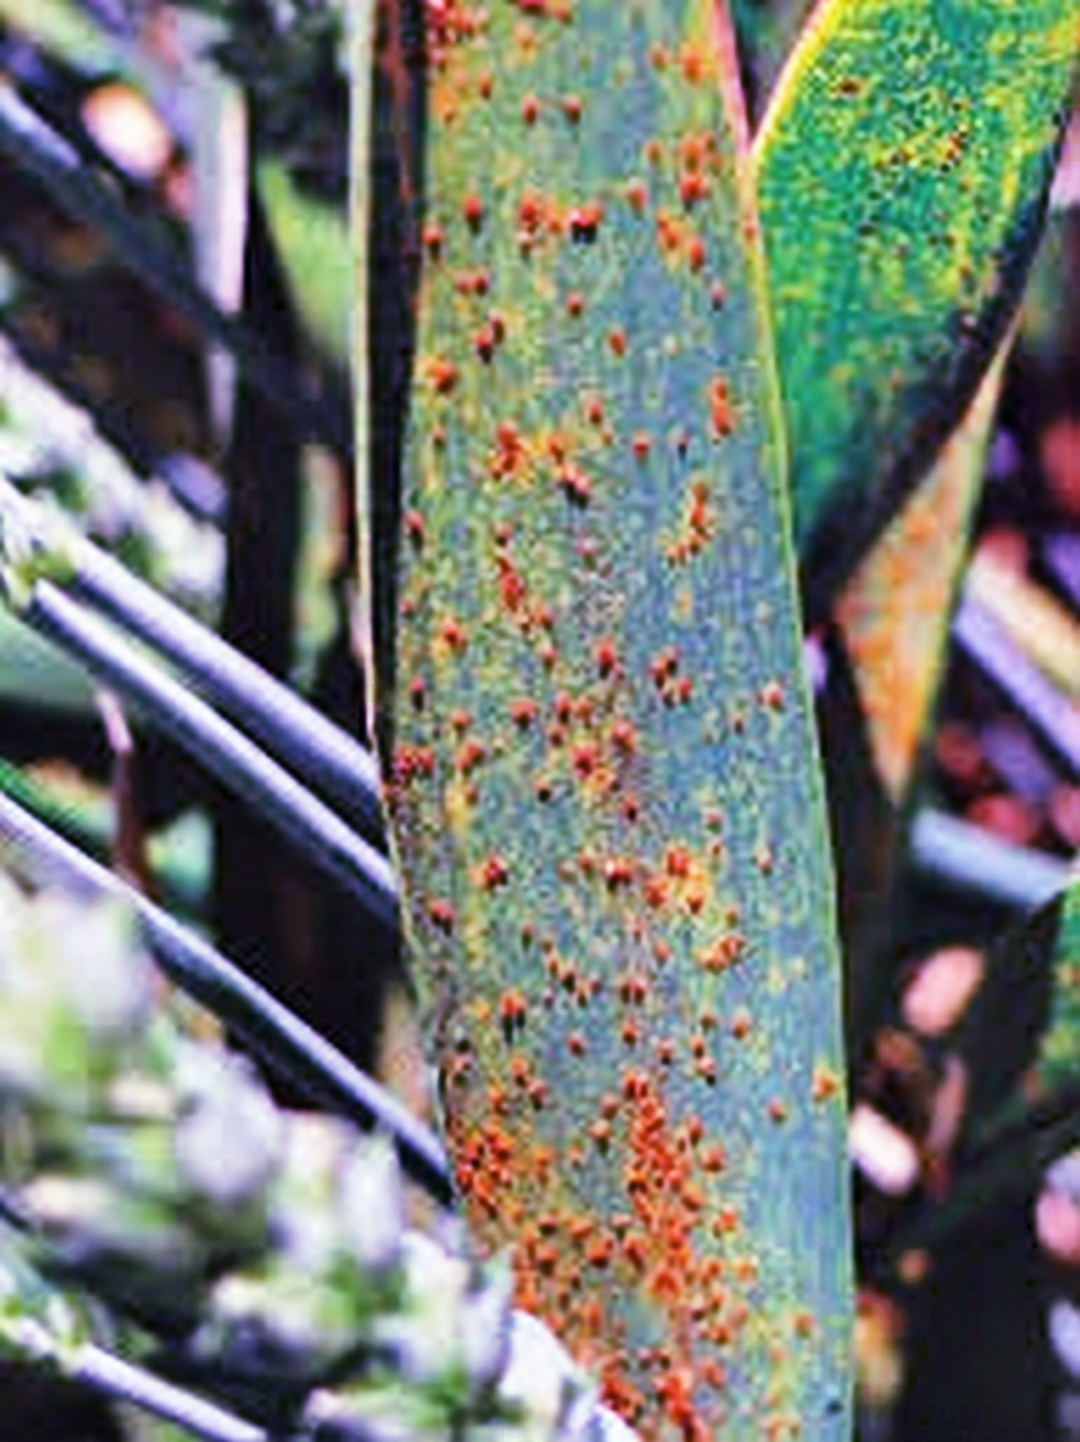Leaf Rust: (385, 107, 888, 1365)
